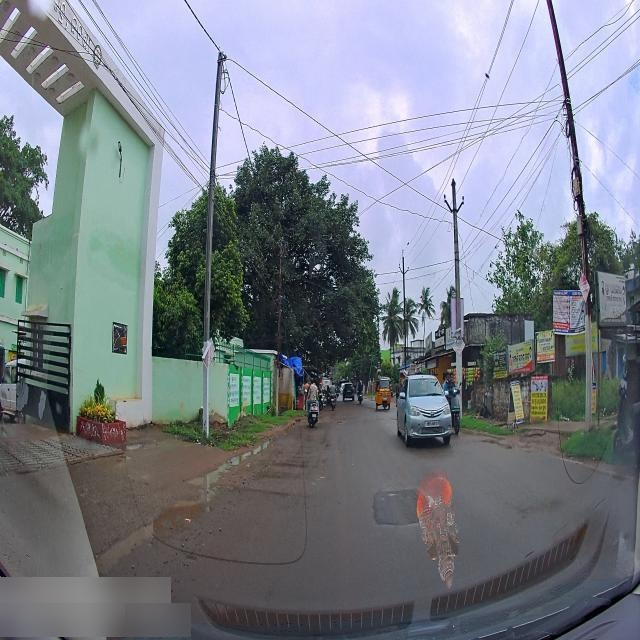pothole: (196, 472, 243, 484)
